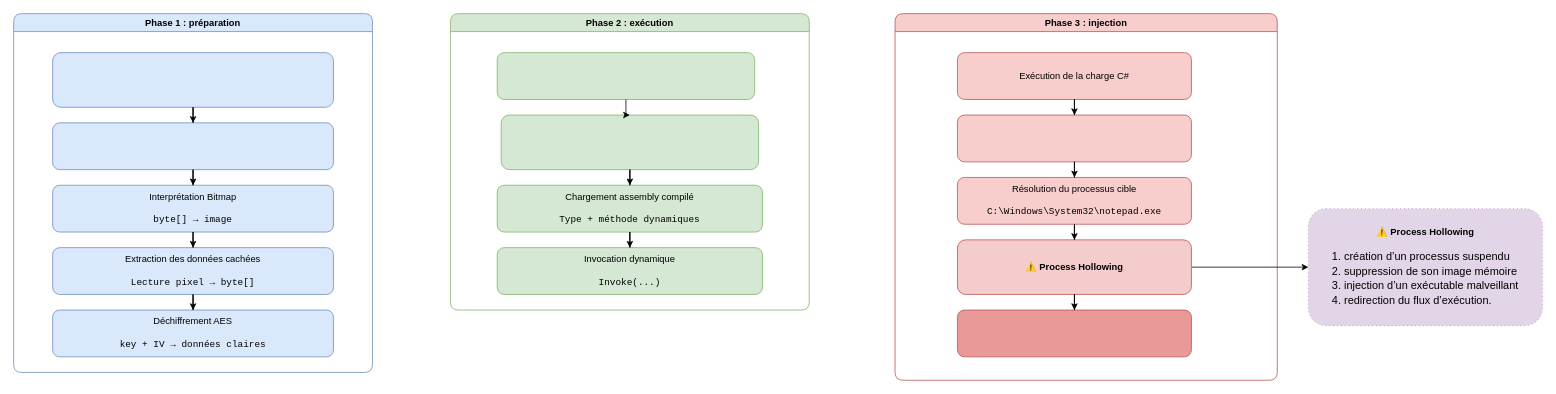
Some shapes in this 1556 by 394 pixel diagram are drawn without their labels. Here are the shapes that lost their labels. From the top down, the box of each, then its label:
(52, 52, 333, 107): Chargement ressource embarquée GetExecutingAssembly + GetManifestResourceStream
(496, 52, 755, 99): Reconstruction code C#
(52, 122, 333, 170): Copie en mémoire Stream → MemoryStream → byte[]
(500, 114, 759, 170): Compilation en mémoire CSharpCodeProvider + GenerateInMemory = true
(957, 114, 1191, 162): Déchiffrement de chaînes Base64 + AES
(957, 309, 1191, 357): Payload final exécuté dans notepad.exe
